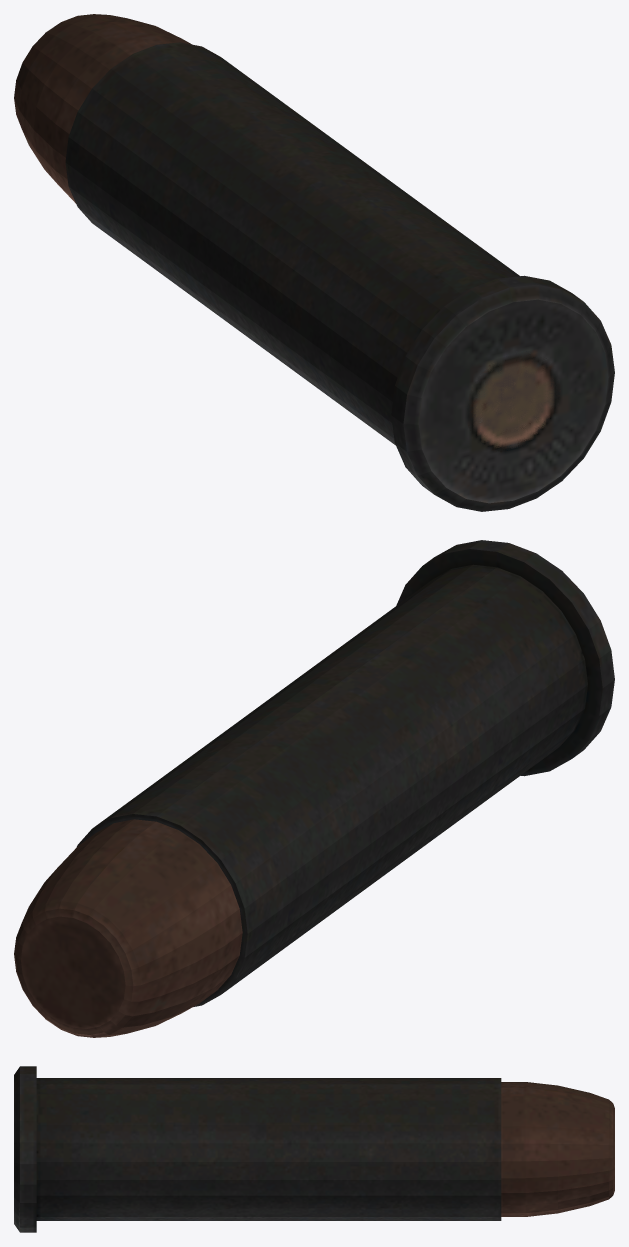
The picture shows the model from 3 angles, top to bottom: view 1: azimuth 30°, elevation 25°; view 2: azimuth 150°, elevation 25°; view 3: azimuth 270°, elevation 25°; orthographic projection. The views are drawn at different scales.
Parts seen in each view (by area): view 1: TW_62330b3ed4dc74626d570b95_PZ_Import; view 2: TW_62330b3ed4dc74626d570b95_PZ_Import; view 3: TW_62330b3ed4dc74626d570b95_PZ_Import.
Part boxes in pixels (box(x1,y1,x2,y2)): TW_62330b3ed4dc74626d570b95_PZ_Import: box(14, 14, 614, 511); TW_62330b3ed4dc74626d570b95_PZ_Import: box(14, 540, 614, 1037); TW_62330b3ed4dc74626d570b95_PZ_Import: box(14, 1066, 614, 1232).
Size of the model in its own units: 0.00648 by 0.0234 by 0.00648.
1 material, 1 textured.
